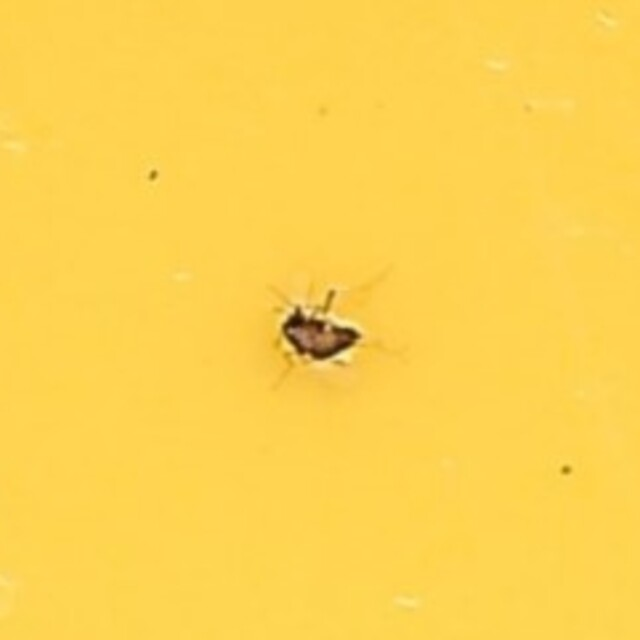Nematocera: (266, 271, 374, 369)
